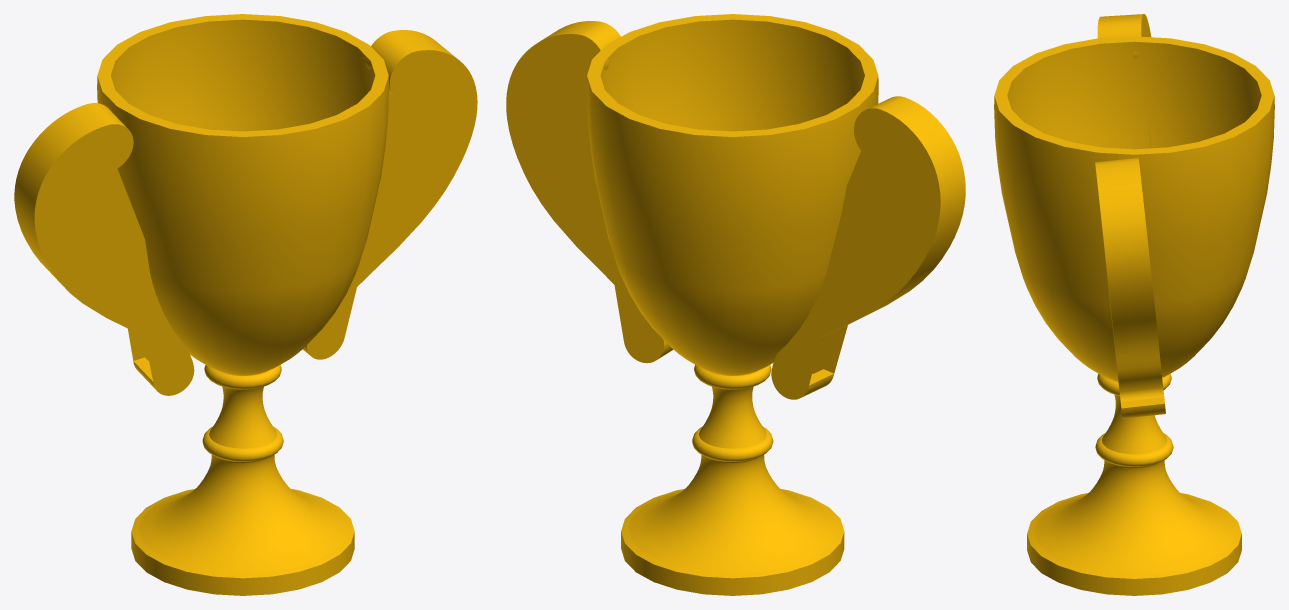
File: victory.fbx
The picture shows the model from 3 angles, left to right: view 1: azimuth 30°, elevation 25°; view 2: azimuth 150°, elevation 25°; view 3: azimuth 270°, elevation 25°; orthographic projection. The views are drawn at different scales.
Visible parts, largest first — view 1: Symmetry; view 2: Symmetry; view 3: Symmetry.
Boxes of the visible parts, box(x1,y1,x2,y2) form: Symmetry: box(14, 14, 477, 595); Symmetry: box(506, 14, 965, 595); Symmetry: box(994, 14, 1274, 595).
Bounding box in the file's own units: 223 × 235 × 128.
